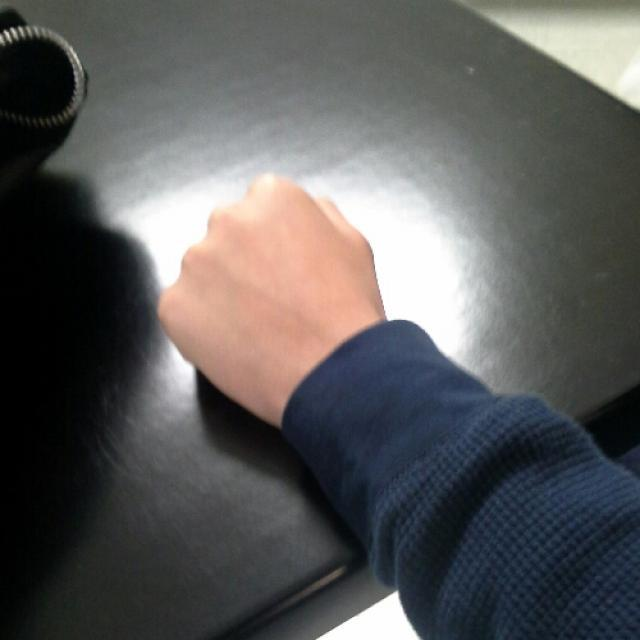rock: (158, 171, 380, 406)
